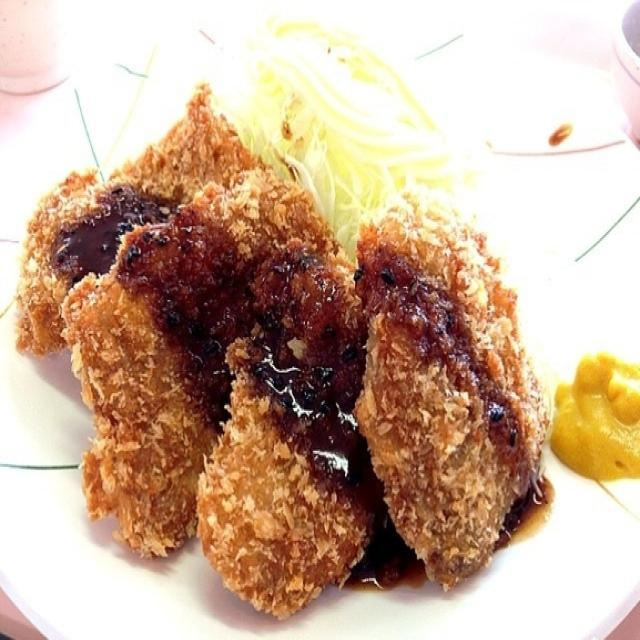牛肉菜式: (28, 41, 586, 624)
